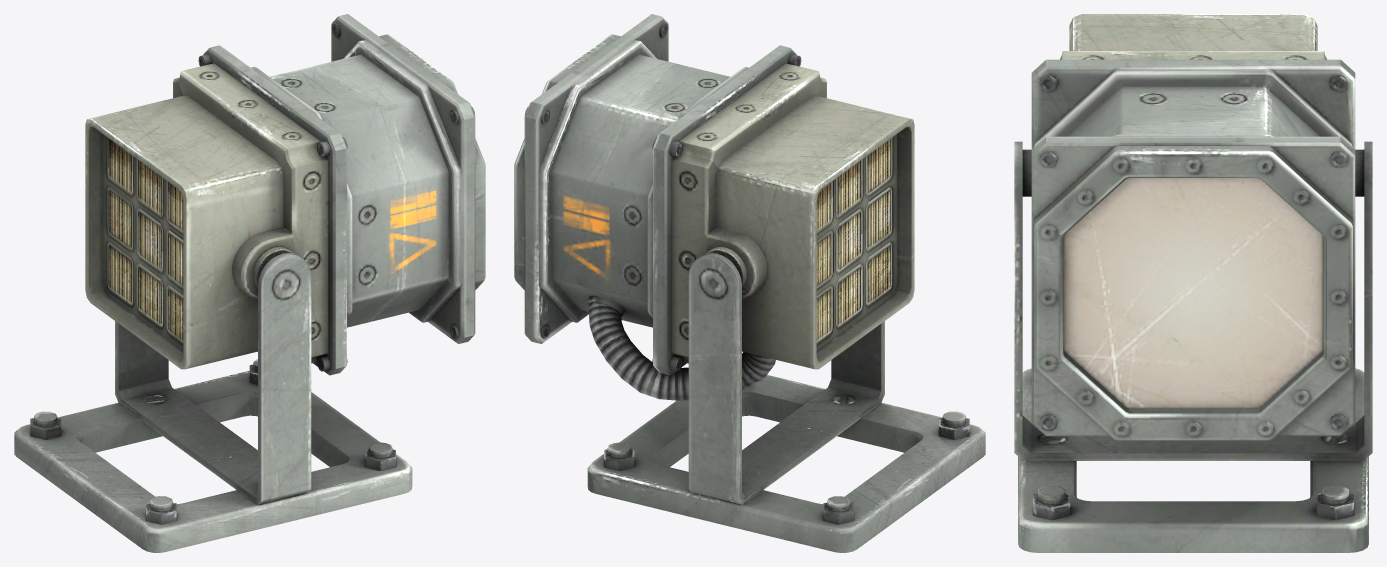
Rendered from survival_spotlight.glb.
3 views of the same model, side by side, from view 1: azimuth 30°, elevation 25°; view 2: azimuth 150°, elevation 25°; view 3: azimuth 270°, elevation 25° (orthographic). The views are drawn at different scales.
Visible parts, largest first — view 1: dmx/survival_spotlight_model.dmx_0, dmx/survival_spotlight_brackets_model.dmx_1; view 2: dmx/survival_spotlight_model.dmx_0, dmx/survival_spotlight_brackets_model.dmx_1; view 3: dmx/survival_spotlight_model.dmx_0, dmx/survival_spotlight_brackets_model.dmx_1.
Part boxes in pixels (left/top/right/bottom): dmx/survival_spotlight_model.dmx_0: left=85, top=14, right=485, bottom=375; dmx/survival_spotlight_brackets_model.dmx_1: left=14, top=253, right=412, bottom=552; dmx/survival_spotlight_model.dmx_0: left=514, top=14, right=914, bottom=400; dmx/survival_spotlight_brackets_model.dmx_1: left=587, top=253, right=985, bottom=552; dmx/survival_spotlight_model.dmx_0: left=1022, top=14, right=1364, bottom=440; dmx/survival_spotlight_brackets_model.dmx_1: left=1014, top=141, right=1372, bottom=552.
Size of the model in its own units: 9.25 by 9.43 by 6.84.
1 material, 1 textured.
